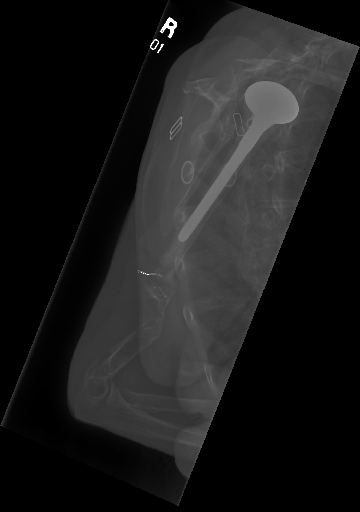implant: (175, 78, 301, 245)
